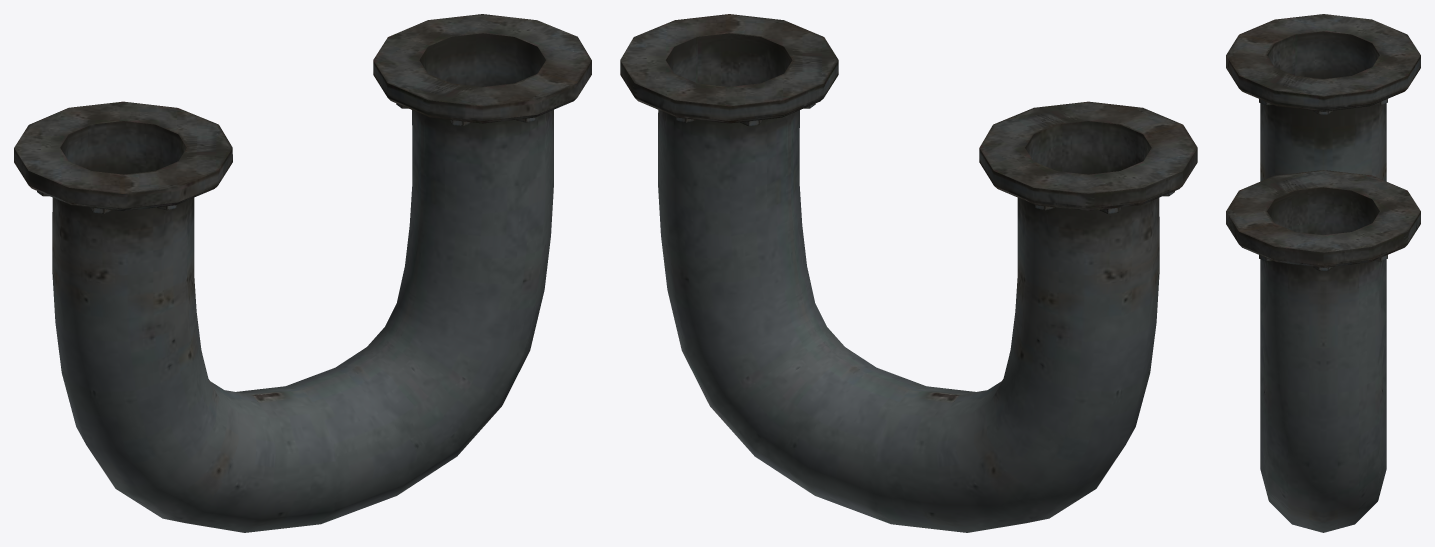
File: pipe05.gltf
3 views of the same model, side by side, from view 1: azimuth 30°, elevation 25°; view 2: azimuth 150°, elevation 25°; view 3: azimuth 270°, elevation 25° (orthographic). The views are drawn at different scales.
Parts seen in each view (by area): view 1: pipe05; view 2: pipe05; view 3: pipe05.
Part boxes in pixels (<box>): pipe05: <box>14,14,591,532</box>; pipe05: <box>620,14,1197,532</box>; pipe05: <box>1226,14,1420,532</box>.
Bounding box in the file's own units: 0.5981 × 0.4329 × 0.2063.
Materials: 1 (1 with a texture image).
